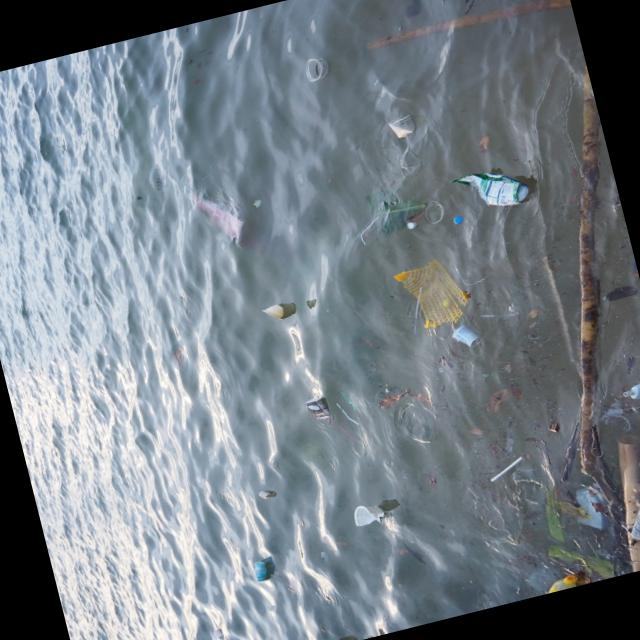foam: (346, 494, 388, 532)
plastic: (563, 479, 619, 537), (618, 477, 640, 545), (528, 570, 582, 597), (246, 556, 272, 584), (621, 376, 640, 404)
plastic bottle: (448, 156, 537, 220), (384, 108, 422, 140), (484, 453, 527, 480), (300, 54, 332, 84), (450, 320, 480, 350), (260, 298, 292, 323), (256, 486, 274, 501), (324, 638, 343, 640)
unknow: (392, 254, 476, 334), (193, 174, 266, 259), (301, 392, 330, 422)
